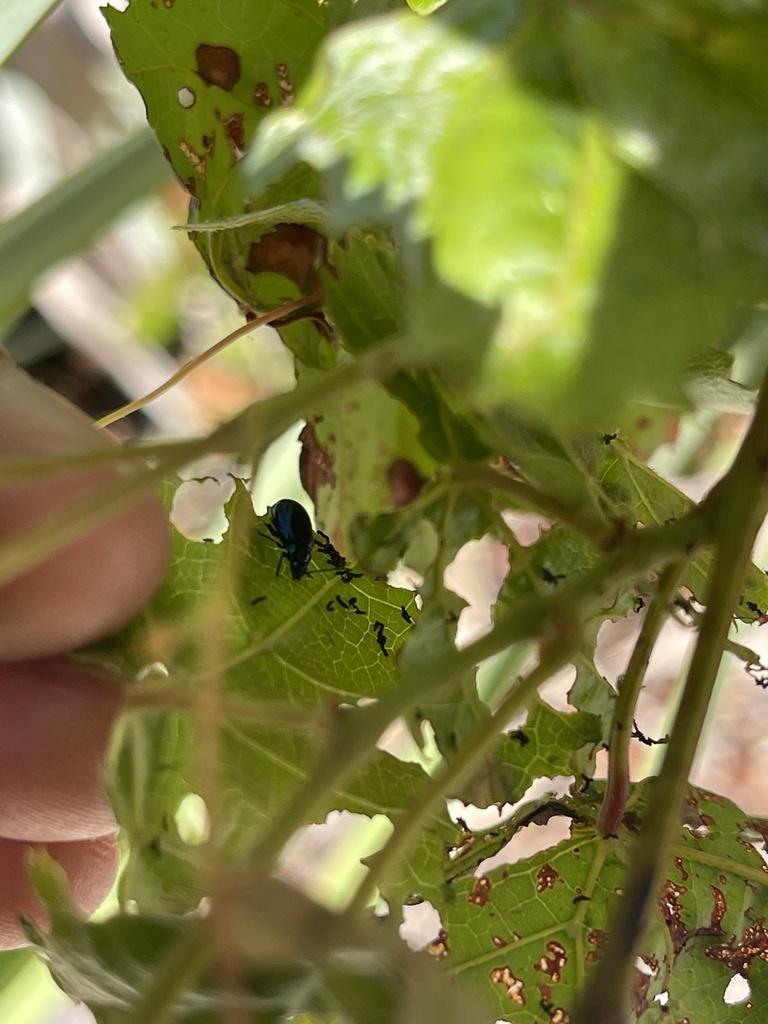flea_beetle: (241, 469, 341, 597)
